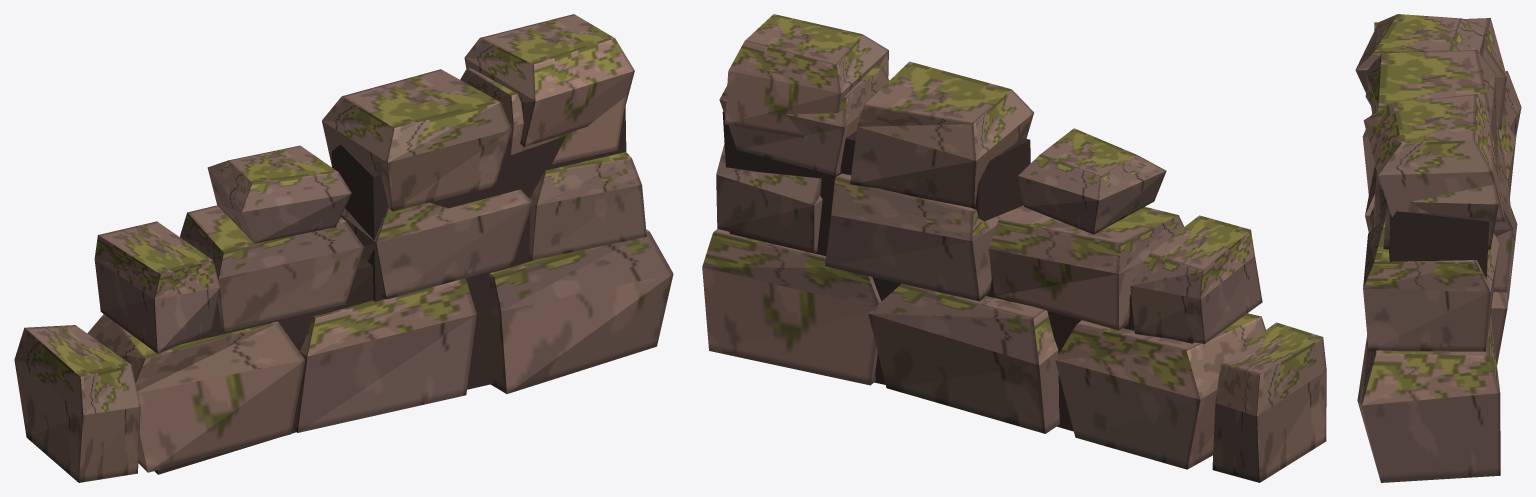
The model's file is SM_ST14_StoneWallRuin.fbx.
3 renders of one model, left to right at view 1: azimuth 30°, elevation 25°; view 2: azimuth 150°, elevation 25°; view 3: azimuth 270°, elevation 25°, orthographic. The views are drawn at different scales.
Visible parts, largest first — view 1: ST14_Wall; view 2: ST14_Wall; view 3: ST14_Wall.
Part boxes in pixels (x1,y1,x2,y2): ST14_Wall: (14, 14, 673, 482); ST14_Wall: (702, 14, 1326, 482); ST14_Wall: (1355, 14, 1521, 482).
Bounding box in the file's own units: 2.54 × 1.31 × 0.5962.
